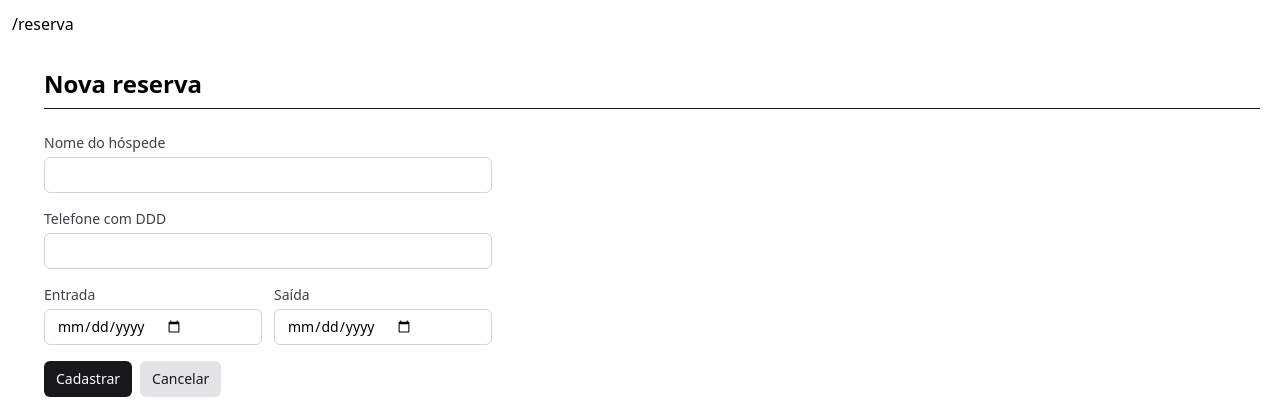
Test case: TelaNovaReserva › Cancelar volta à fila sem POST
Click the button "Cancelar": (181, 379) left=140, top=361, right=221, bottom=397
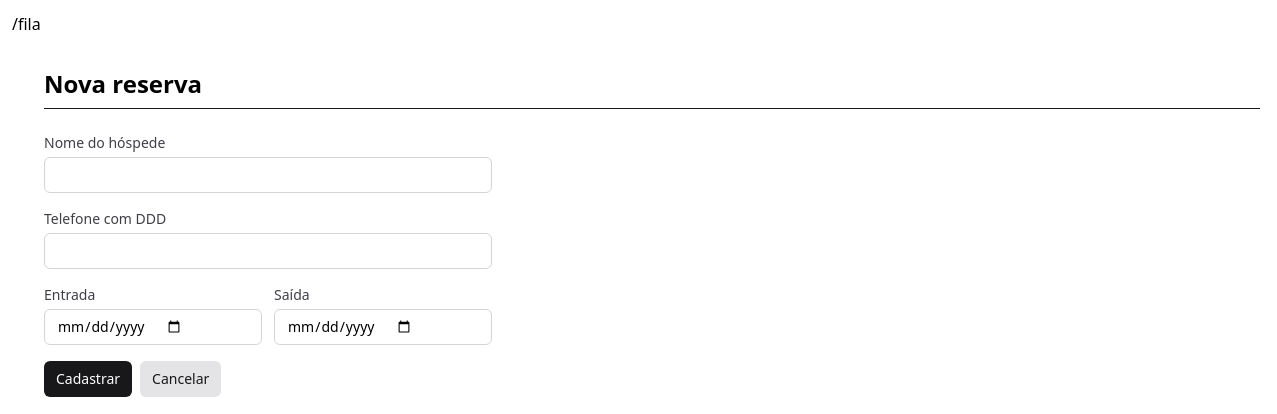
Result: the text with test id "path" reads "/fila" at left=12, top=13, right=41, bottom=35
